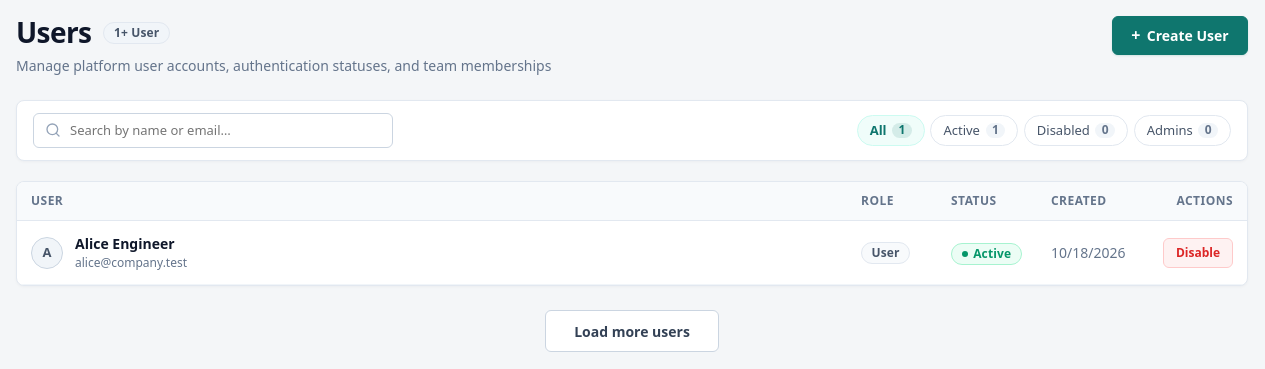
Test: AdminUsers Page › paginates users with keyset nextCursor via Load more users
The image size is (1265, 369).
Expected: the text "Alice Engineer" is shown, [75,233,187,254]
Click the button "Load more users": (632, 331) [545,310,719,352]
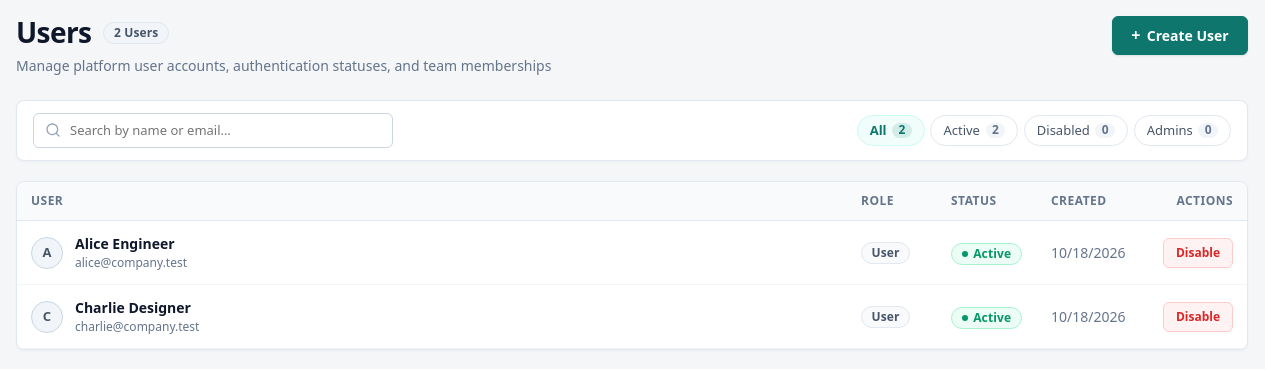
Expected: the text "Alice Engineer" is shown, [75,233,187,254]
Expected: the text "Charlie Designer" is shown, [75,297,199,318]
